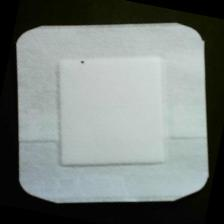Dressing: (1, 1, 224, 224)
F_Body: (75, 56, 97, 78)
